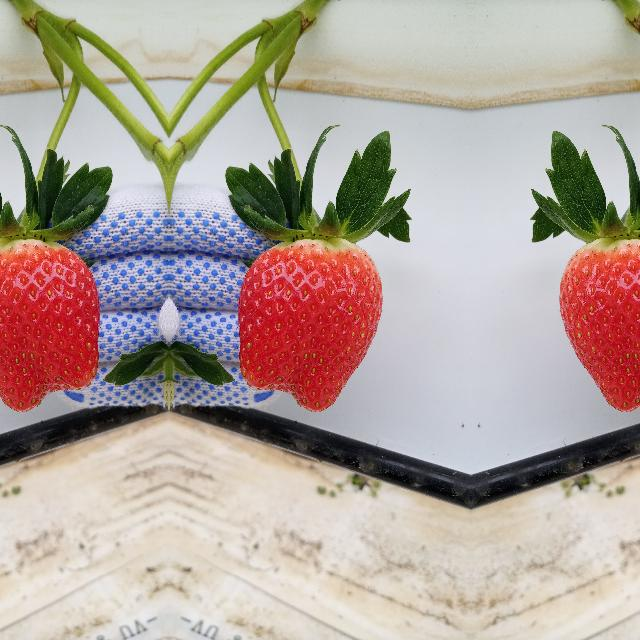Health_100: (237, 238, 383, 412), (0, 238, 99, 411), (558, 238, 640, 411)
